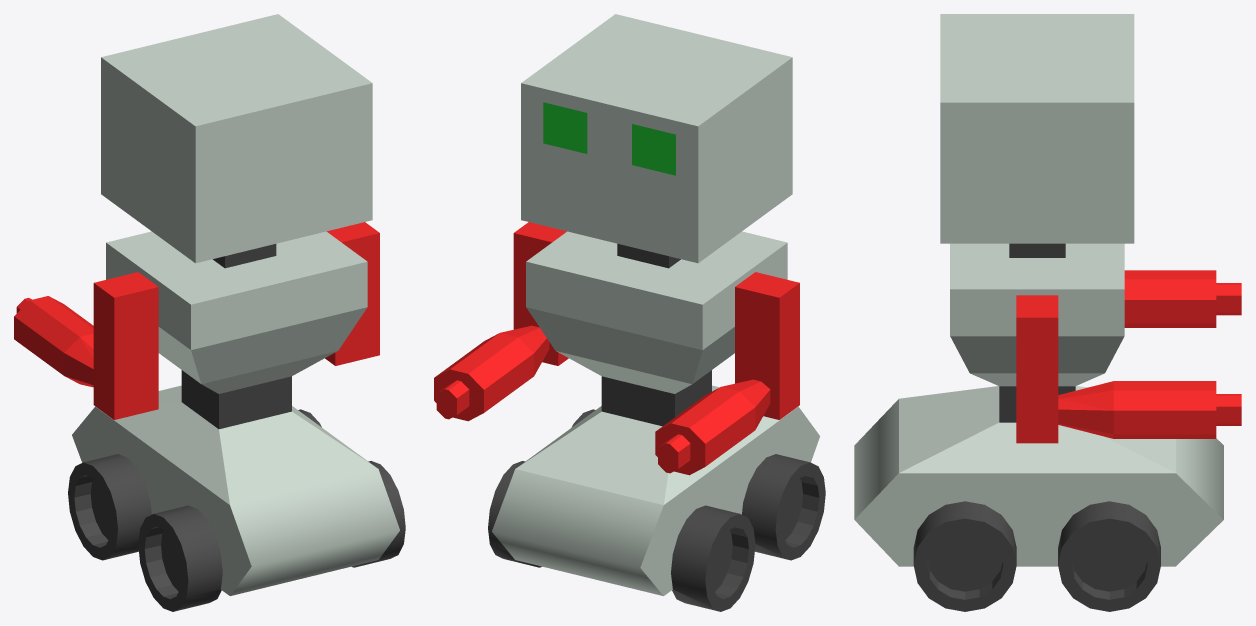
Rendered from type_γ.FBX.
3 renders of one model, left to right at view 1: azimuth 30°, elevation 25°; view 2: azimuth 150°, elevation 25°; view 3: azimuth 270°, elevation 25°, orthographic. The views are drawn at different scales.
Parts seen in each view (by area): view 1: type_αBody; view 2: type_αBody; view 3: type_αBody.
Boxes of the visible parts, bbox=[...] form: type_αBody: bbox=[14, 14, 405, 611]; type_αBody: bbox=[434, 14, 825, 611]; type_αBody: bbox=[854, 14, 1241, 611].
Bounding box in the file's own units: 12.28 × 21.02 × 14.78.
